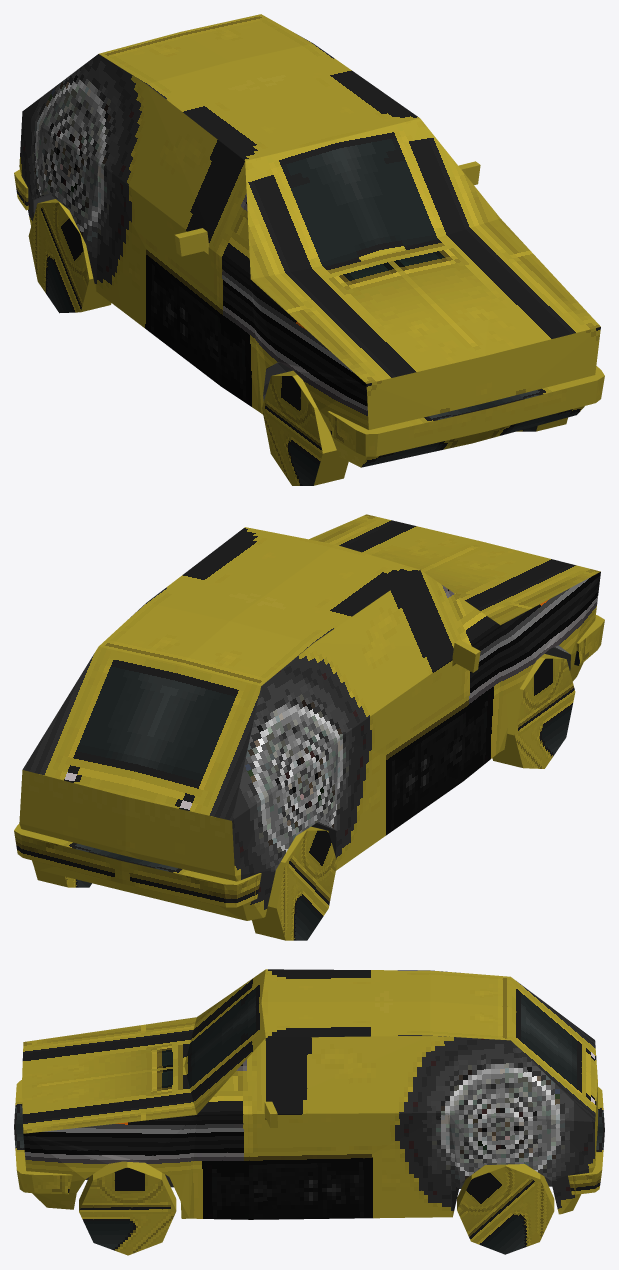
The model's file is car03_yellow.glb.
3 renders of one model, top to bottom at view 1: azimuth 30°, elevation 25°; view 2: azimuth 150°, elevation 25°; view 3: azimuth 270°, elevation 25°, orthographic. The views are drawn at different scales.
Parts seen in each view (by area): view 1: car03_yellow; view 2: car03_yellow; view 3: car03_yellow.
Boxes of the visible parts, left/top/right/bottom form: car03_yellow: left=14, top=14, right=604, bottom=485; car03_yellow: left=14, top=514, right=604, bottom=940; car03_yellow: left=14, top=969, right=604, bottom=1255.
Bounding box in the file's own units: 2.65 × 2.14 × 5.61.
1 material, 1 textured.
